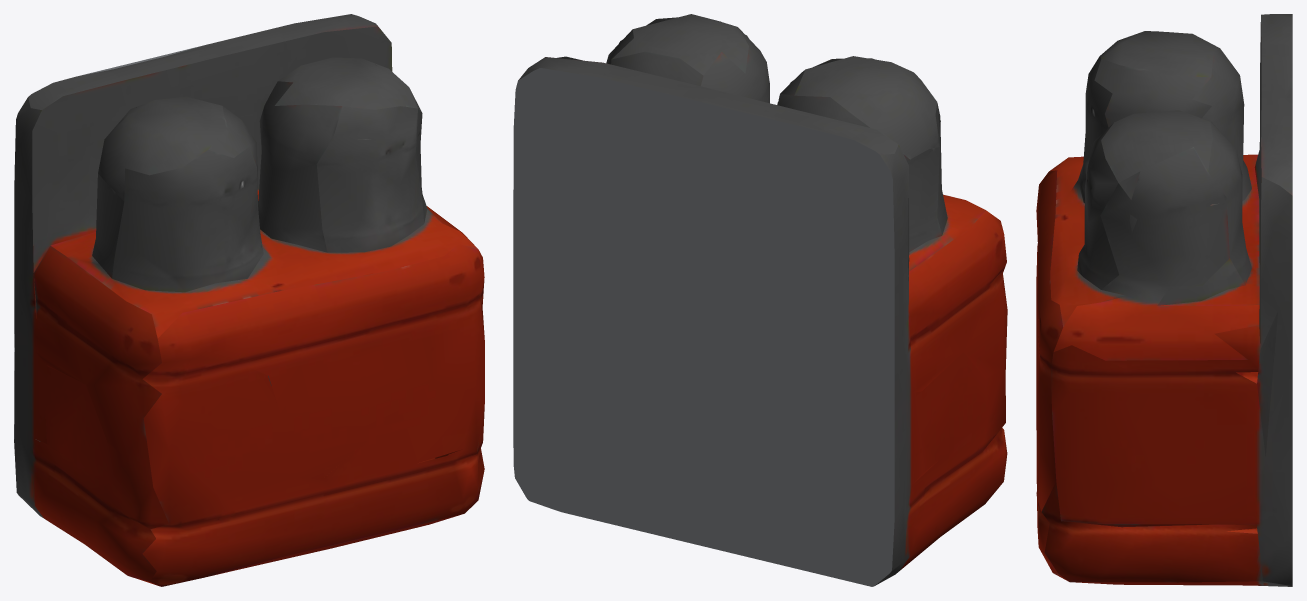
File: ore_refinery_mk1.glb
The picture shows the model from 3 angles, left to right: view 1: azimuth 30°, elevation 25°; view 2: azimuth 150°, elevation 25°; view 3: azimuth 270°, elevation 25°; orthographic projection. The views are drawn at different scales.
Visible parts, largest first — view 1: part; view 2: part; view 3: part.
Part boxes in pixels (x1,y1,x2,y2): part: (14,14,484,586); part: (513,14,1007,586); part: (1036,14,1292,586).
Size of the model in its own units: 3.13 by 3.5 by 1.91.
2 materials, 1 textured.
